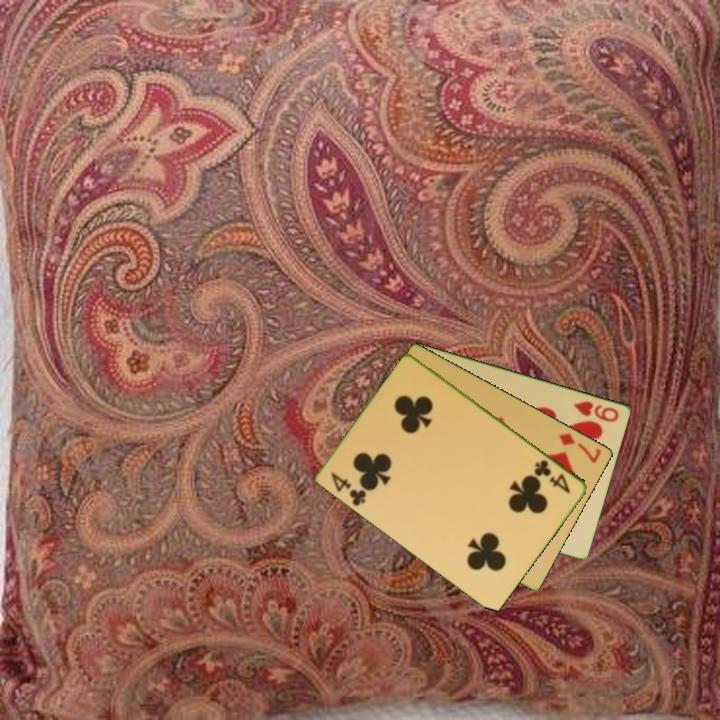4c: (328, 468, 370, 509), (531, 456, 574, 496)
7d: (555, 429, 604, 466)
9h: (570, 397, 622, 425)
